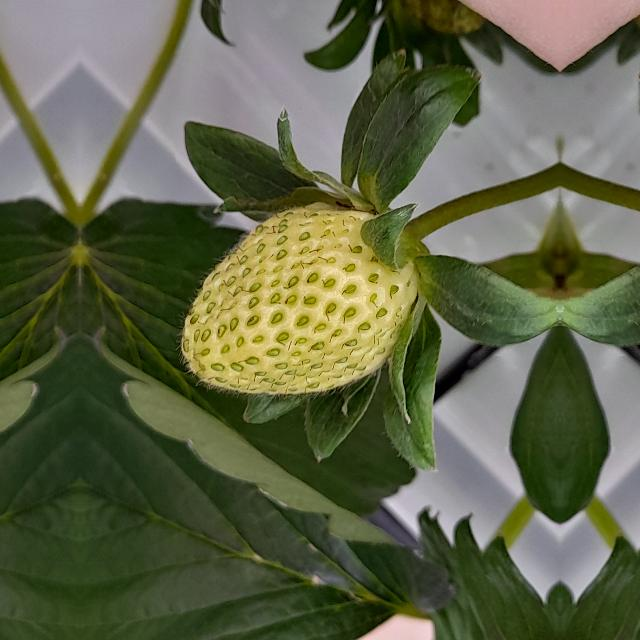Health_25: (173, 202, 419, 400)
